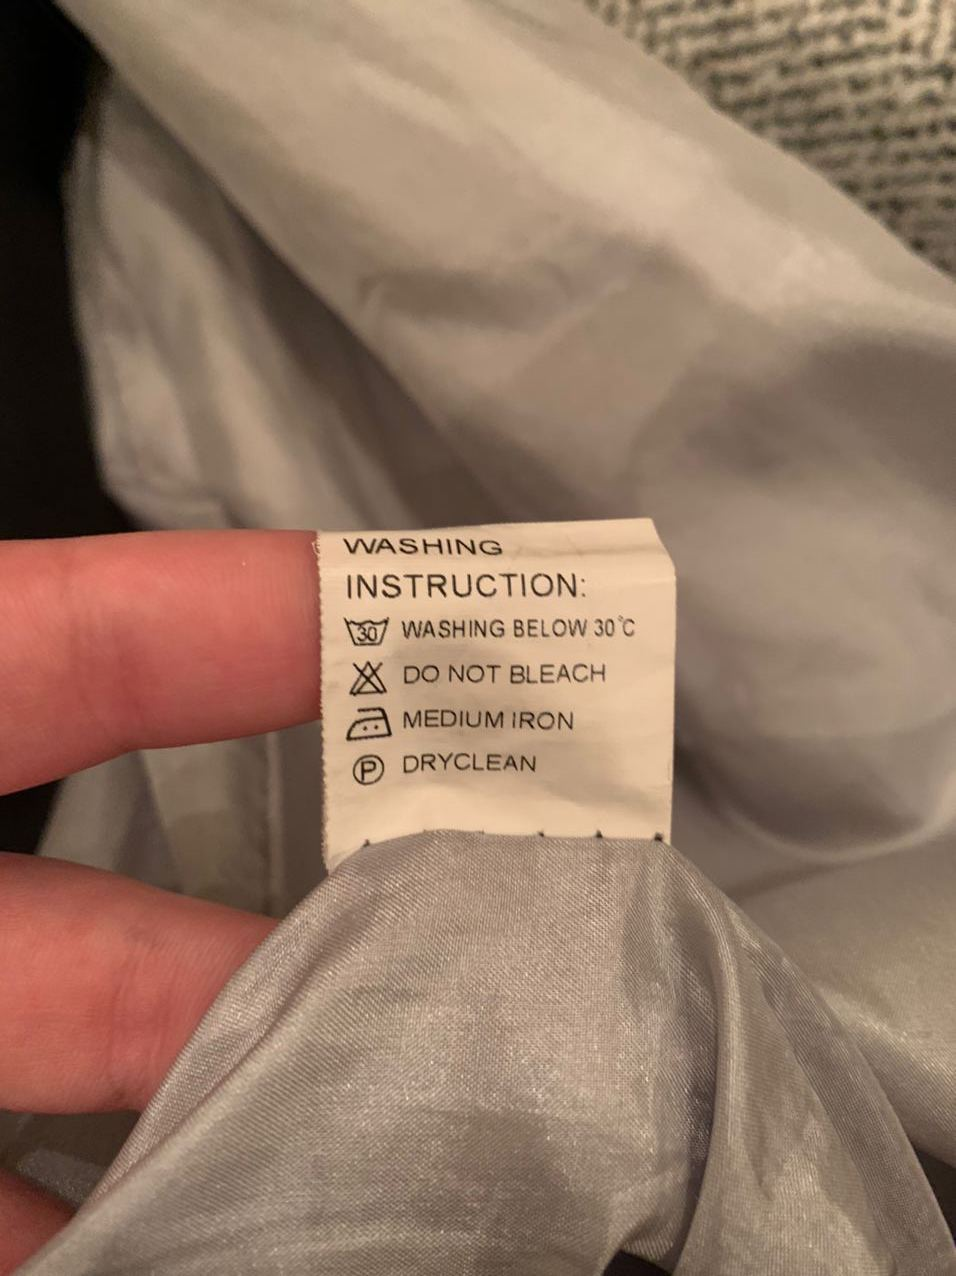do_not_bleach: (344, 655, 390, 700)
dry_clean_tetrachloroethylene_pce_only: (347, 752, 388, 790)
ironing_at_med_temp: (342, 704, 395, 745)
wash_at_or_below_30: (344, 613, 393, 648)
